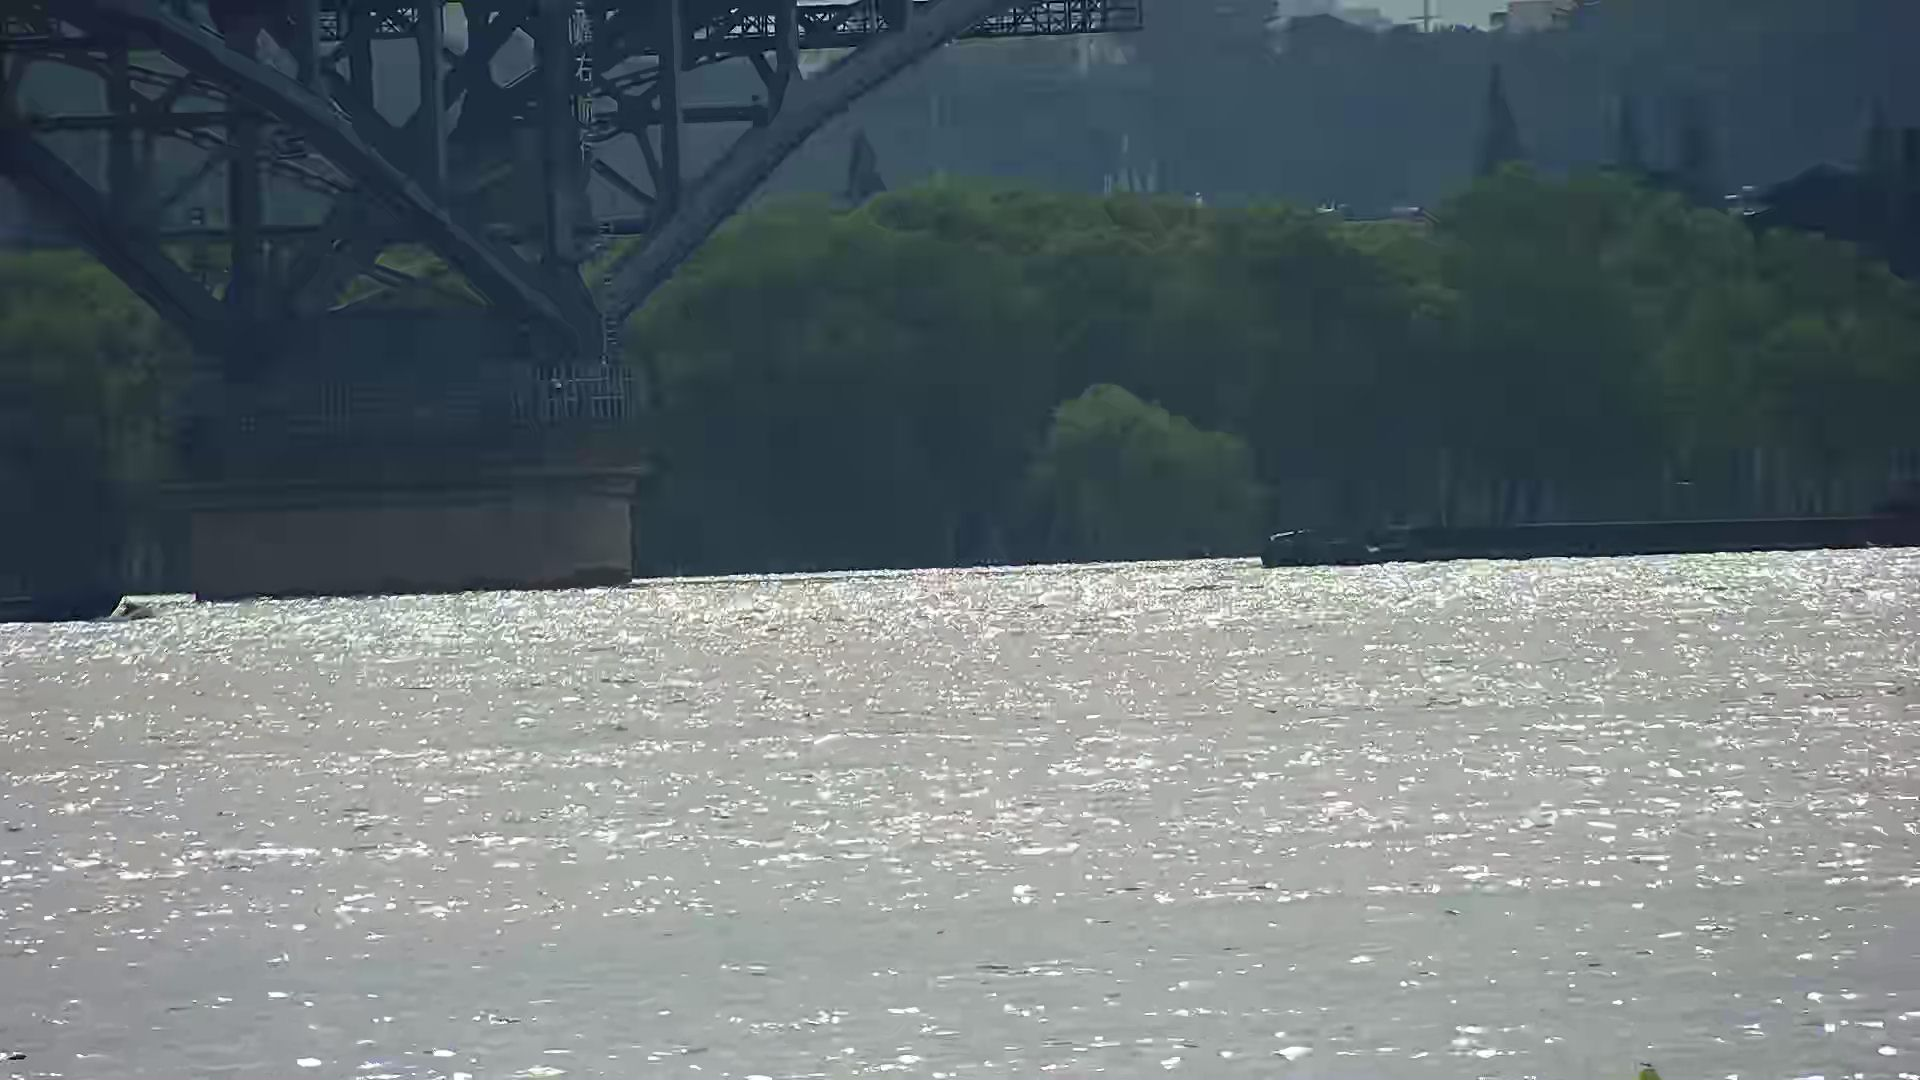boat: (1, 585, 125, 622)
bridge: (1, 1, 1145, 599)
ship: (1258, 506, 1920, 567)
